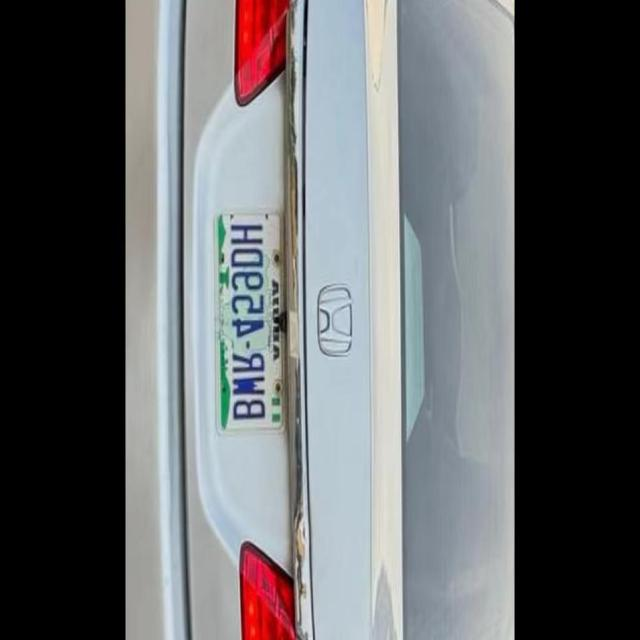Nigerian License Plate - vdataset benjamin-daria: (212, 200, 289, 436)
